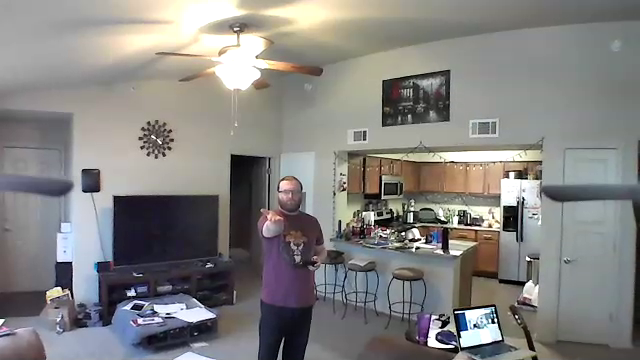land: (255, 207, 289, 226)
